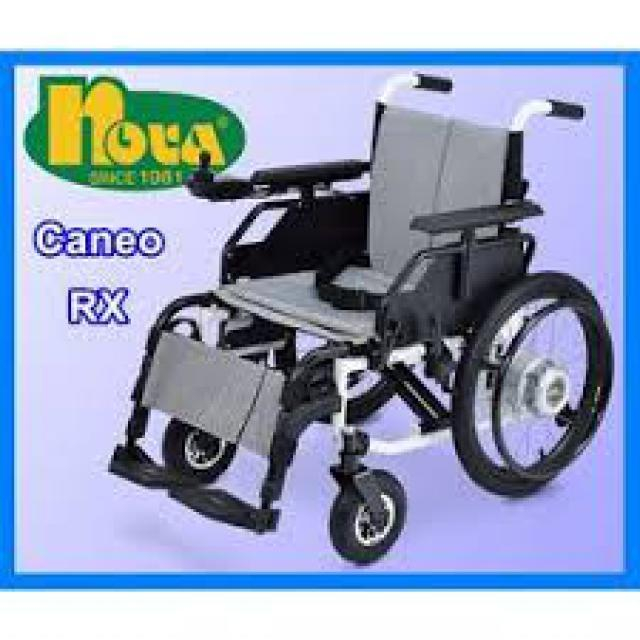wheelchair: (99, 68, 606, 563)
